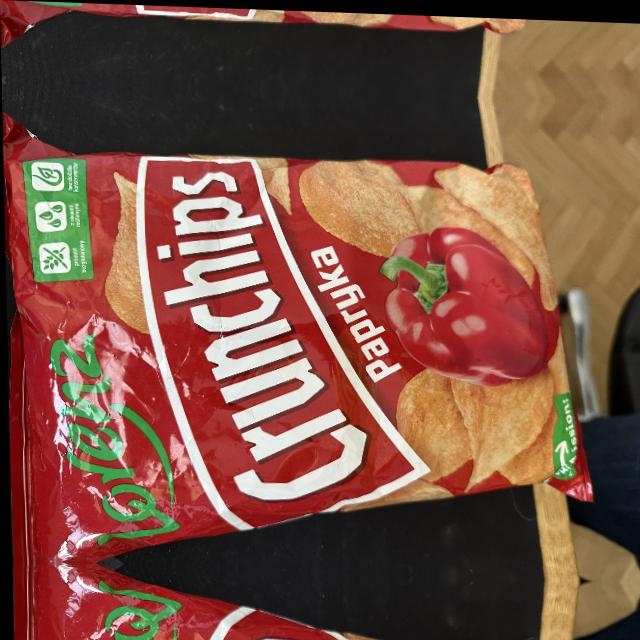crunchips: (137, 156, 430, 529)
